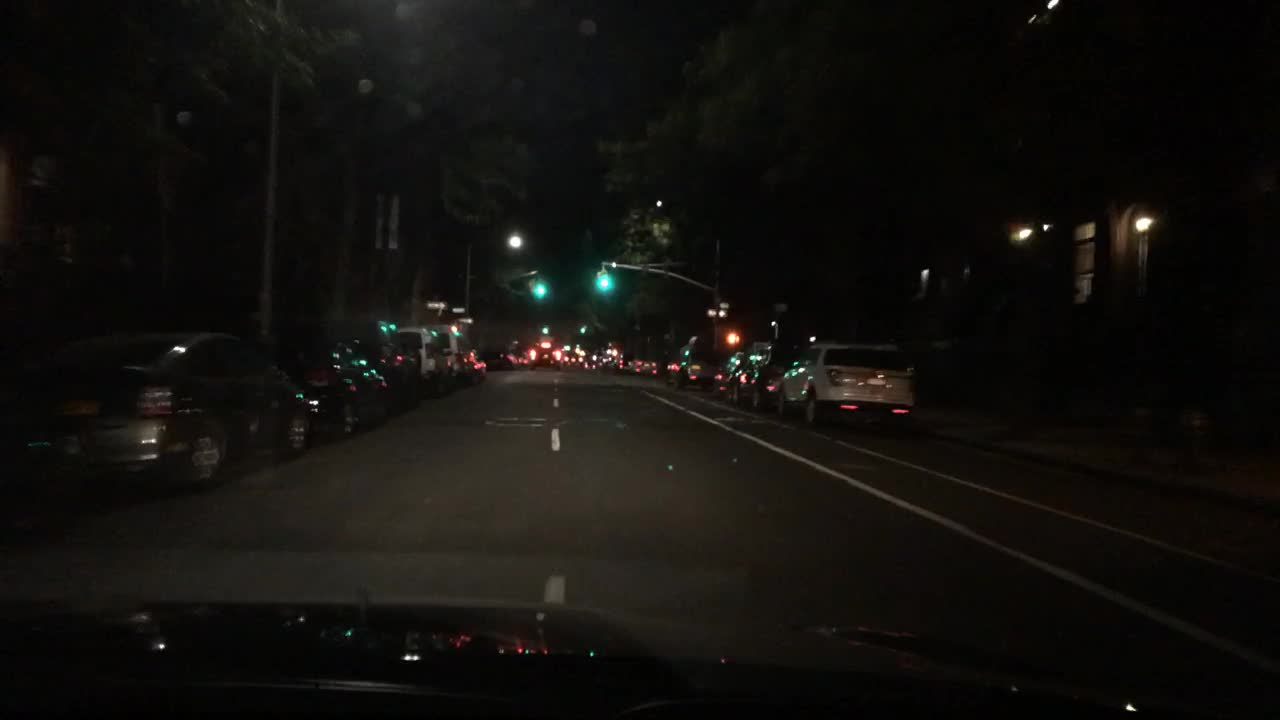car: (23, 327, 324, 499), (0, 341, 79, 533), (773, 337, 916, 435), (280, 331, 395, 440), (729, 336, 801, 410), (366, 337, 428, 410), (390, 322, 450, 391), (661, 336, 725, 391), (428, 327, 476, 388), (708, 347, 746, 398), (528, 334, 563, 368), (624, 347, 658, 381), (462, 346, 489, 376), (486, 344, 516, 369), (604, 347, 631, 373), (584, 351, 611, 373), (511, 346, 536, 368), (562, 347, 582, 368)
traffic light: (597, 263, 611, 293), (725, 327, 739, 347), (535, 270, 545, 297)
traffic sign: (702, 305, 725, 320), (425, 297, 444, 312), (457, 314, 474, 326), (450, 304, 464, 315)
